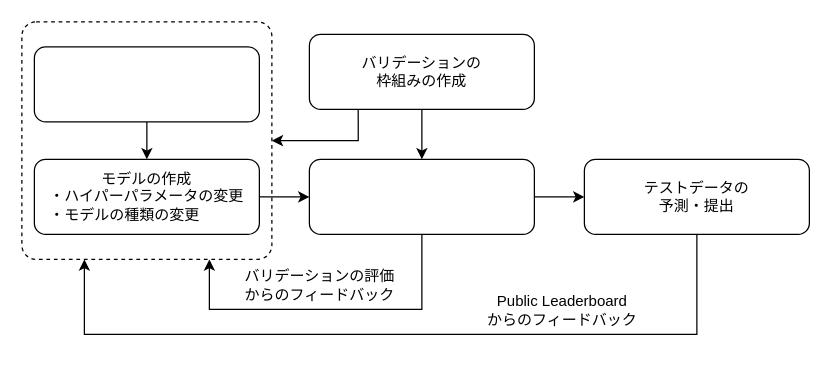
Image size: 831x366. Some labels were removed from this diagram. Here are the shapes that lost their labels. From the top down, the centre of each, then its label:
[146,84]: 特徴量の作成
[421,196]: モデルの学習・評価
